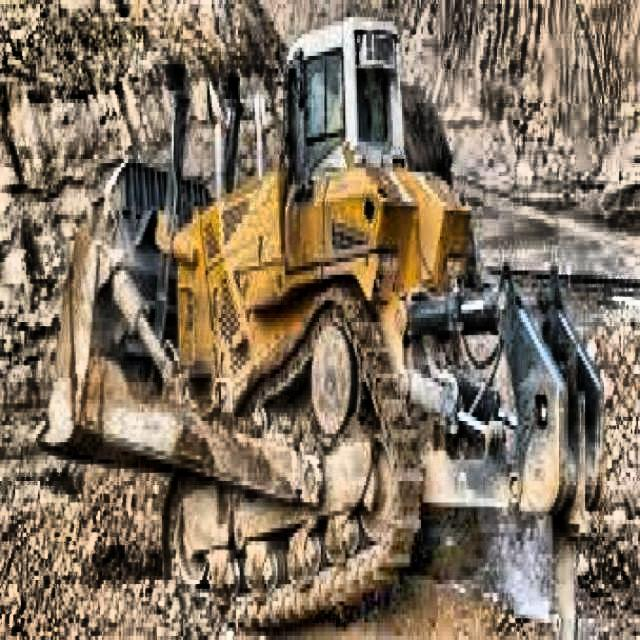bull_dozer/loader/grader: (36, 11, 609, 640)
person: (358, 67, 372, 142)
